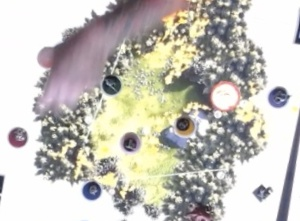blue: (76, 175, 108, 203)
green: (99, 70, 124, 97)
pink: (114, 124, 149, 155)
red: (0, 120, 32, 148)
violet: (264, 81, 293, 109)
yellow: (171, 110, 201, 140)
